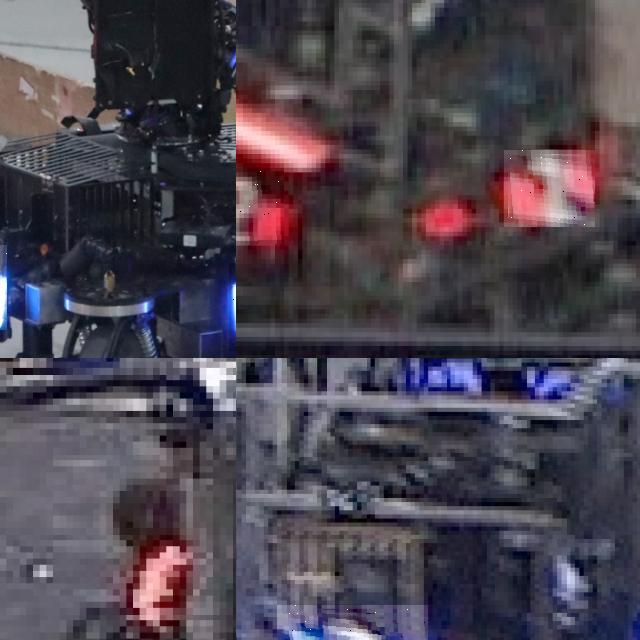B2: (277, 604, 428, 640)
R2: (504, 150, 595, 227), (236, 167, 284, 245)
